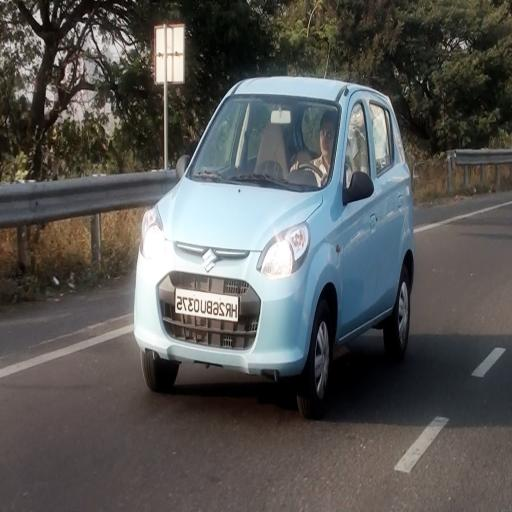License: (172, 286, 239, 324)
